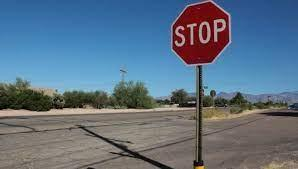Stop-Sign: (170, 3, 231, 67)
